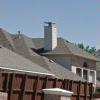Chimney: (40, 10, 63, 68)
